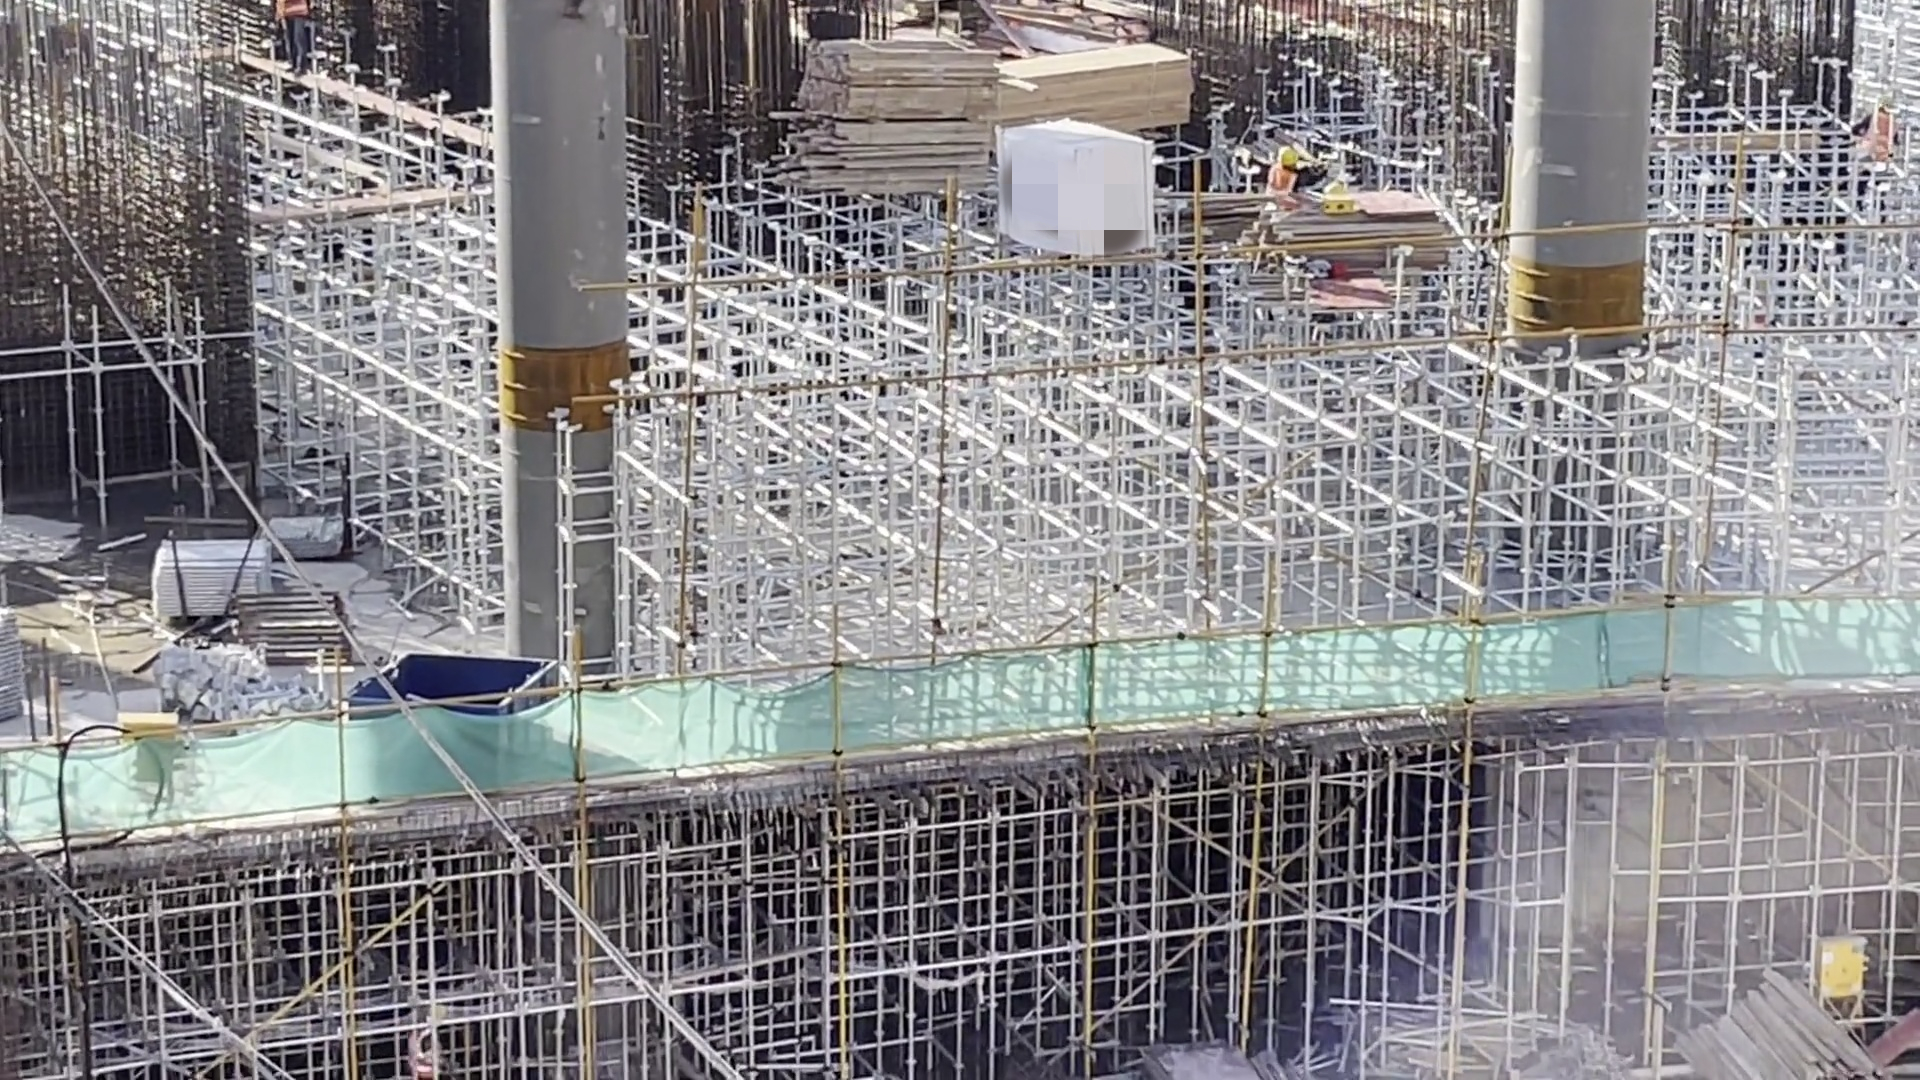board: (1293, 191, 1454, 266)
ebox: (104, 707, 198, 787), (1798, 936, 1851, 977)
helmet: (1273, 143, 1301, 169), (424, 1004, 456, 1026), (1872, 94, 1894, 117)
hopper: (354, 639, 571, 801)
person: (401, 1002, 455, 1080), (1263, 150, 1316, 218), (1868, 91, 1908, 176), (285, 1, 321, 73)
scaffold: (154, 542, 304, 637)
vest: (1864, 114, 1891, 164), (411, 1026, 439, 1069), (1261, 172, 1298, 202), (286, 1, 304, 22)
wood: (1006, 42, 1221, 137), (809, 46, 949, 186), (1688, 974, 1869, 1080)
